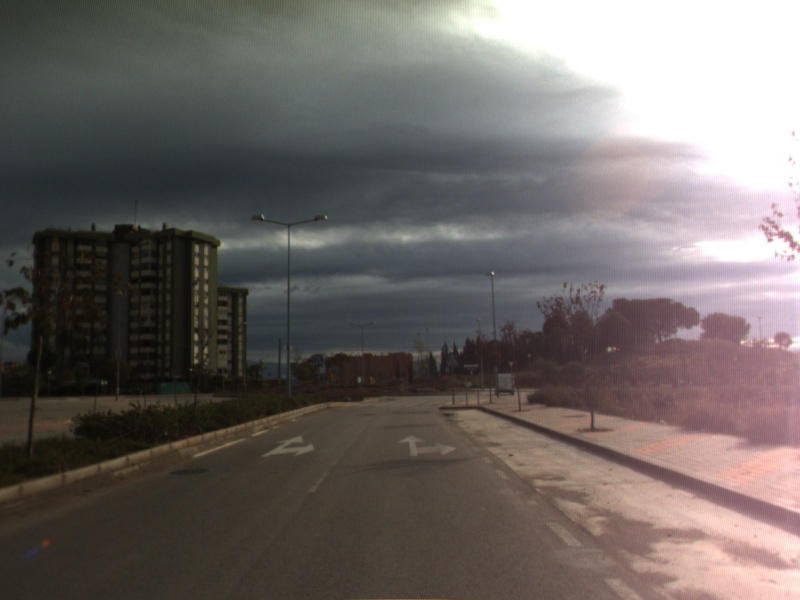STRAIGHT_RIGHT: (396, 433, 459, 458), (259, 433, 316, 459)
